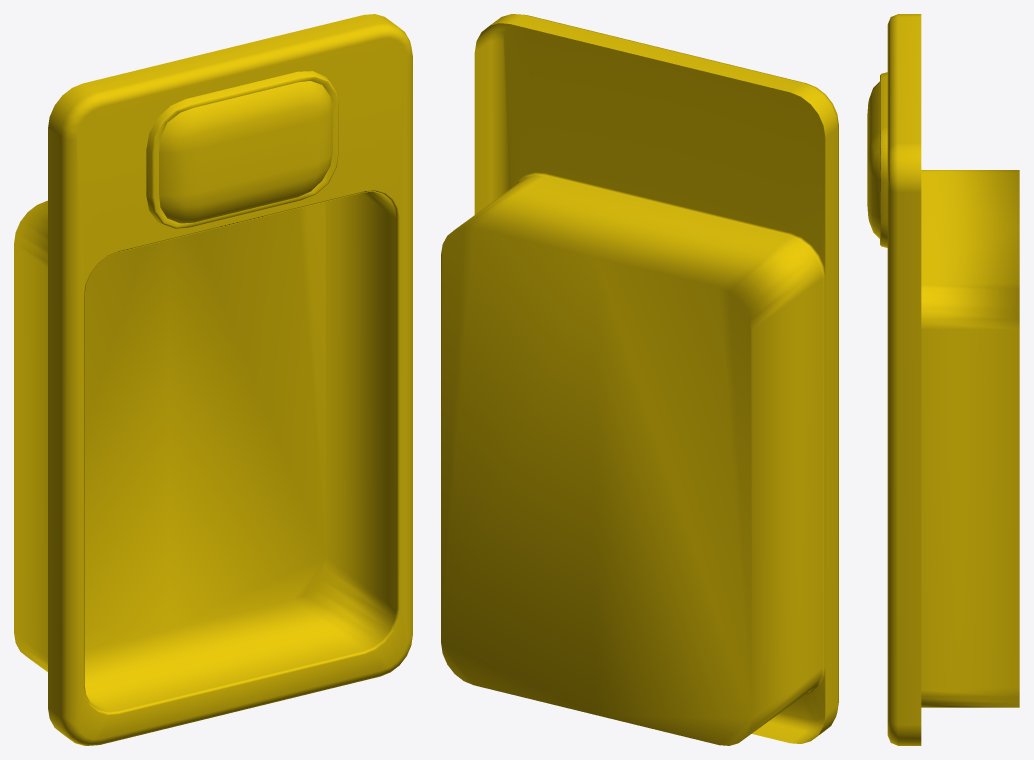
File: BRCloset_ssslow.fbx
3 views of the same model, side by side, from view 1: azimuth 30°, elevation 25°; view 2: azimuth 150°, elevation 25°; view 3: azimuth 270°, elevation 25° (orthographic). The views are drawn at different scales.
Parts seen in each view (by area): view 1: BRCloset_low; view 2: BRCloset_low; view 3: BRCloset_low.
Boxes of the visible parts, x1,y1,x2,y2 form: BRCloset_low: (14, 14, 412, 745); BRCloset_low: (441, 14, 838, 745); BRCloset_low: (867, 14, 1019, 745).
Size of the model in its own units: 172 by 305 by 70.24.
